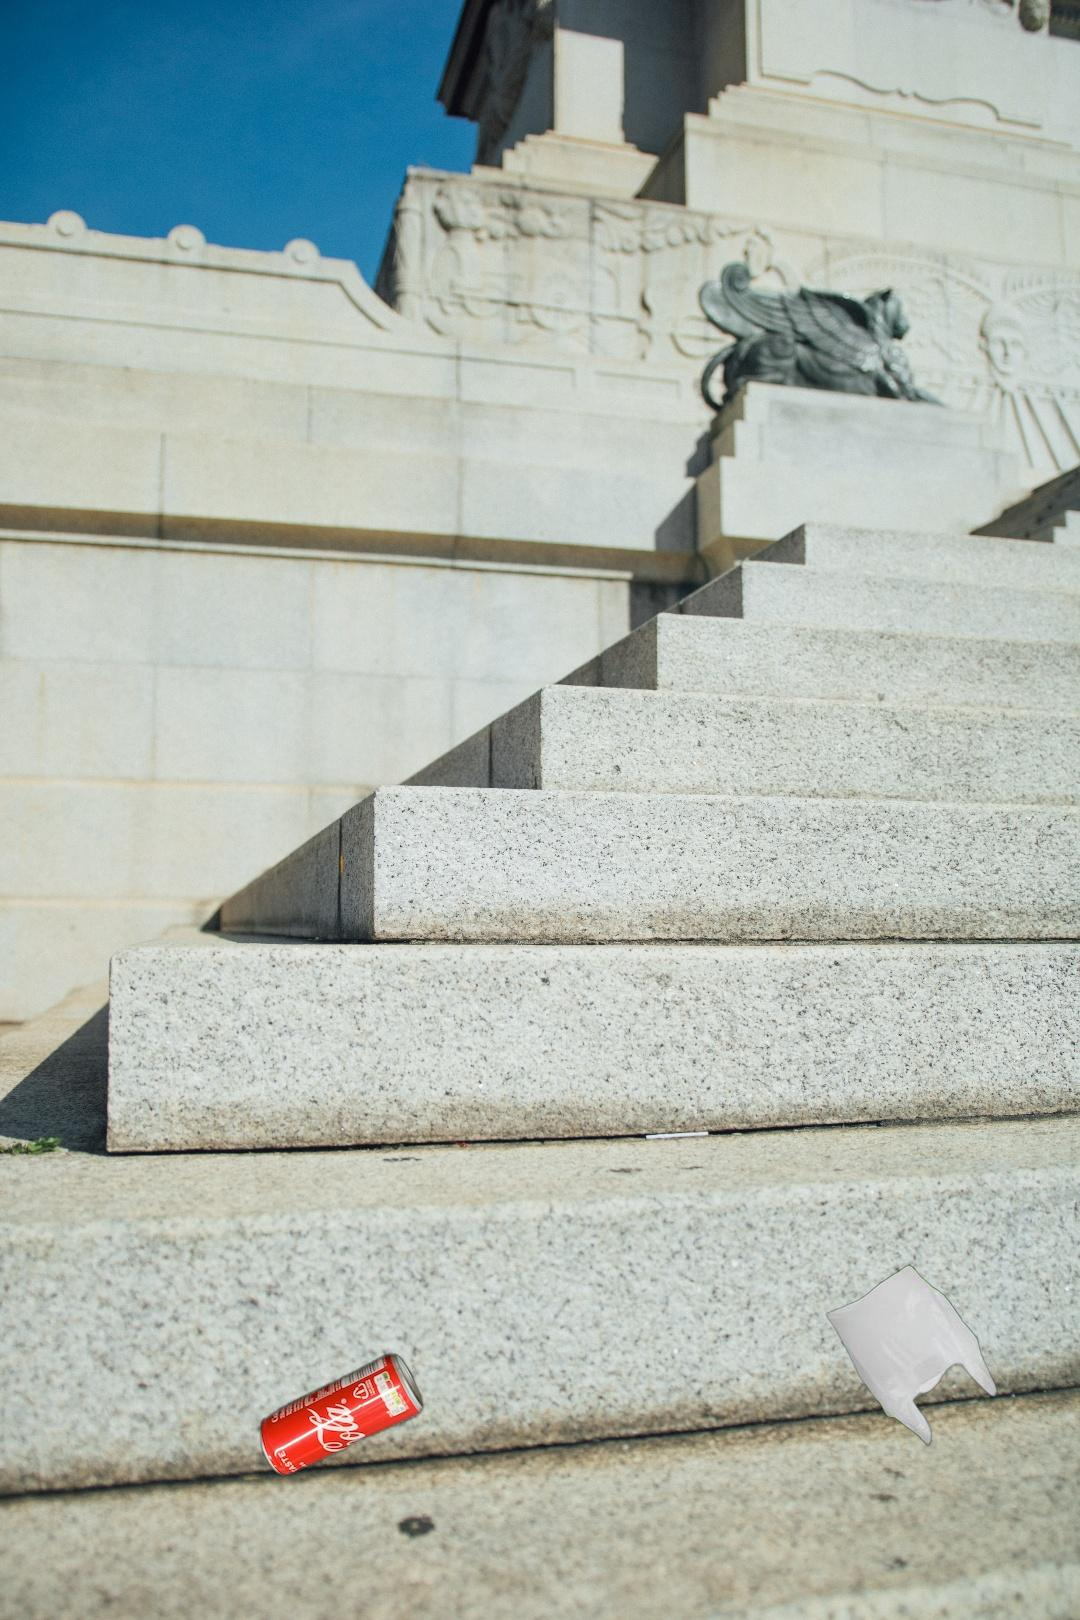metal-cans: (256, 1051, 432, 1483)
plastic-bag: (824, 1262, 1000, 1493)
